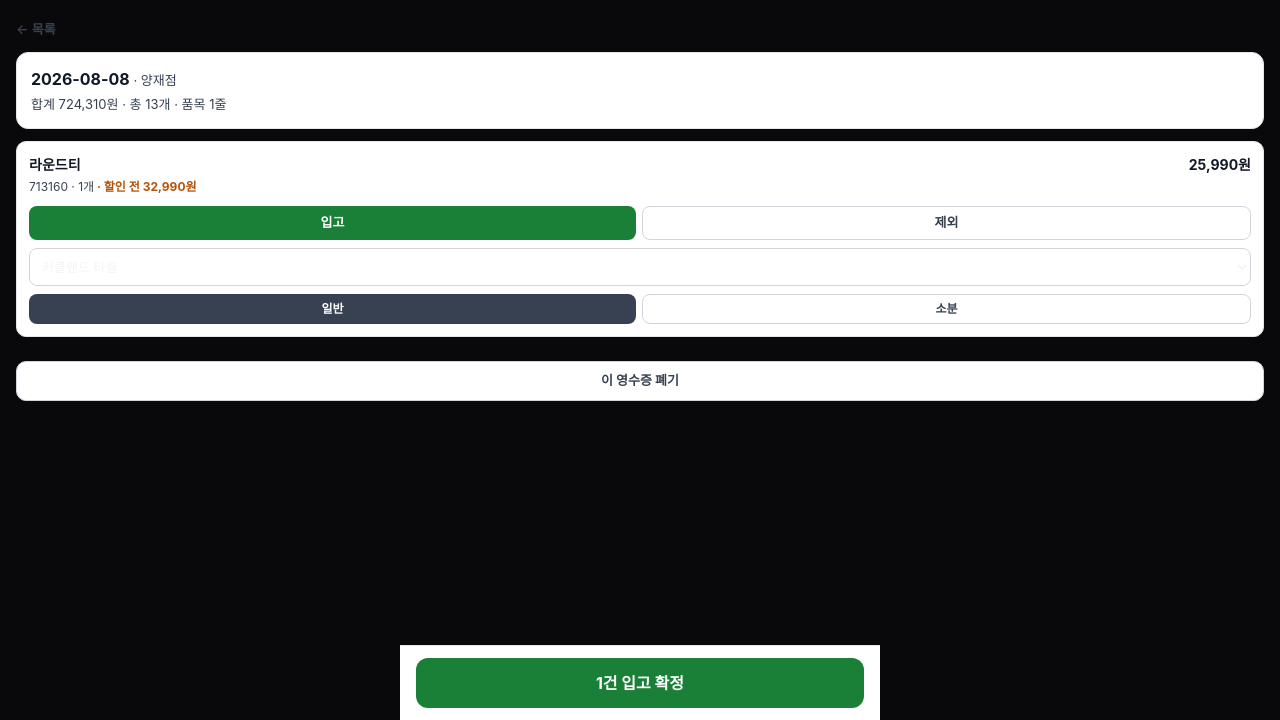
Test: ReceiptDetail › 🔴 일부 실패하면 어느 줄이 왜 실패했는지 보여준다
The image size is (1280, 720).
Click the button "1건 입고 확정". click: click(640, 683)
box: [416,658,864,708]
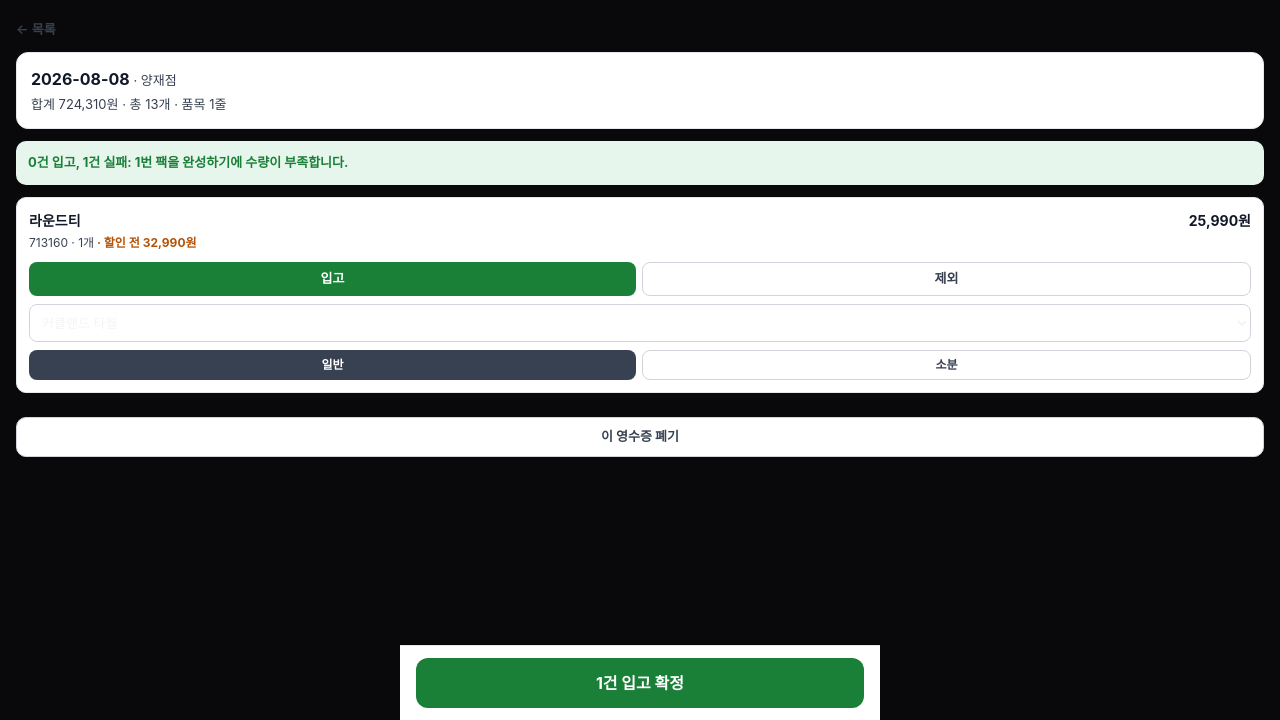
Now the text "0건 입고, 1건 실패: 1번 팩을 완성하기에 수량이 부족합니다." is shown, box [16,141,1264,184]
